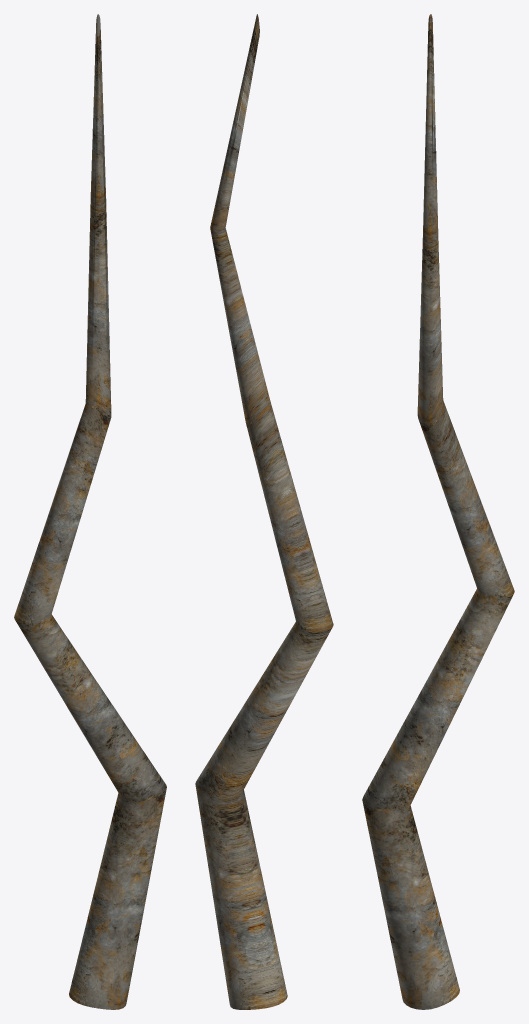
The model's file is espeto.FBX.
3 views of the same model, side by side, from view 1: azimuth 90°, elevation 25°; view 2: azimuth 210°, elevation 25°; view 3: azimuth 270°, elevation 25° (orthographic).
Parts seen in each view (by area): view 1: Cone001; view 2: Cone001; view 3: Cone001.
Part boxes in pixels (x1,y1,x2,y2): Cone001: [14, 14, 166, 1009]; Cone001: [195, 14, 333, 1009]; Cone001: [362, 14, 514, 1009].
Size of the model in its own units: 0.1472 by 1.6 by 0.2245.
Materials: 1 (1 with a texture image).
